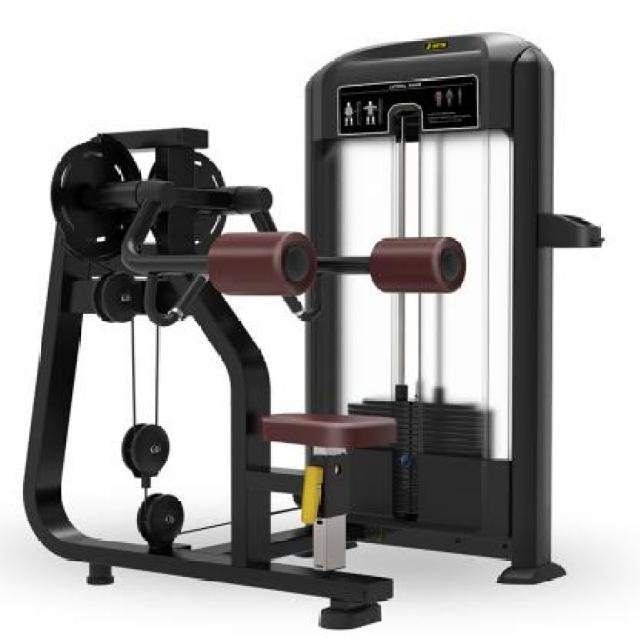lateral raises machine: (24, 32, 602, 630)
